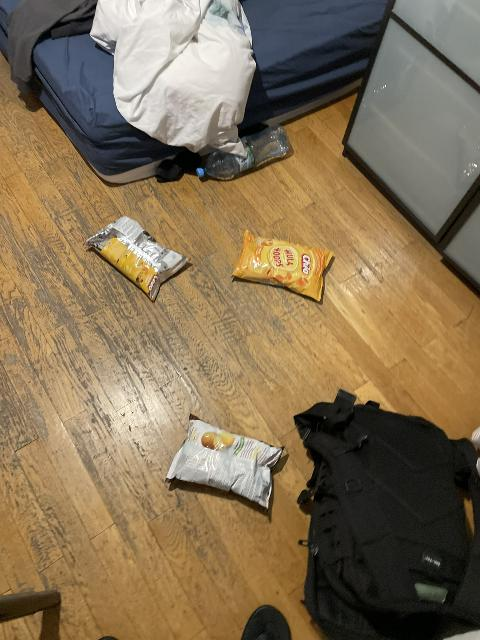Chio Cascaval 125g: (85, 216, 193, 302)
Chio Hula Hoops Cheese 70g: (231, 229, 332, 301)
Lays Beef Grilled Ribs 125g: (165, 414, 285, 508)
